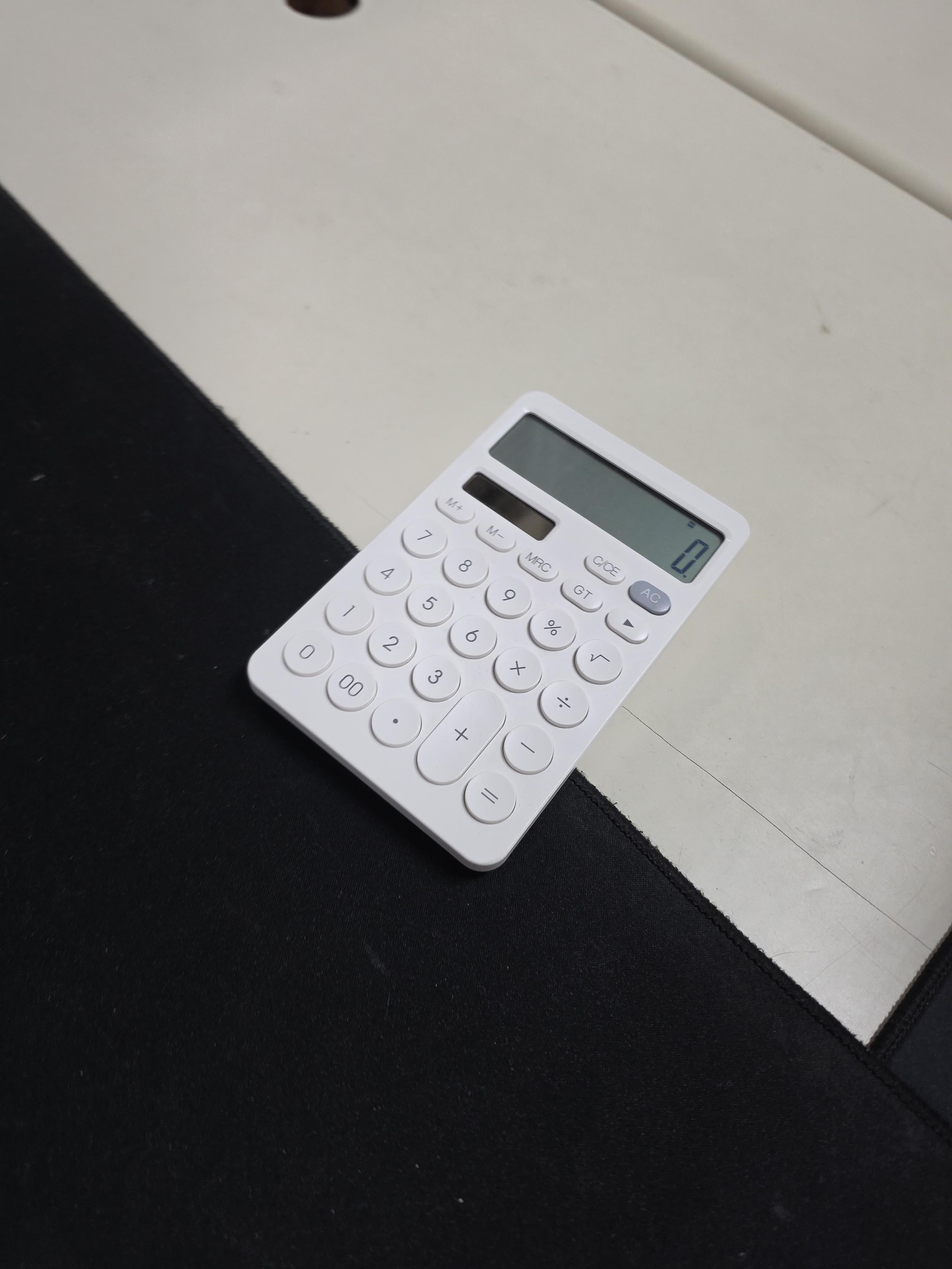calculator: (246, 390, 751, 873)
